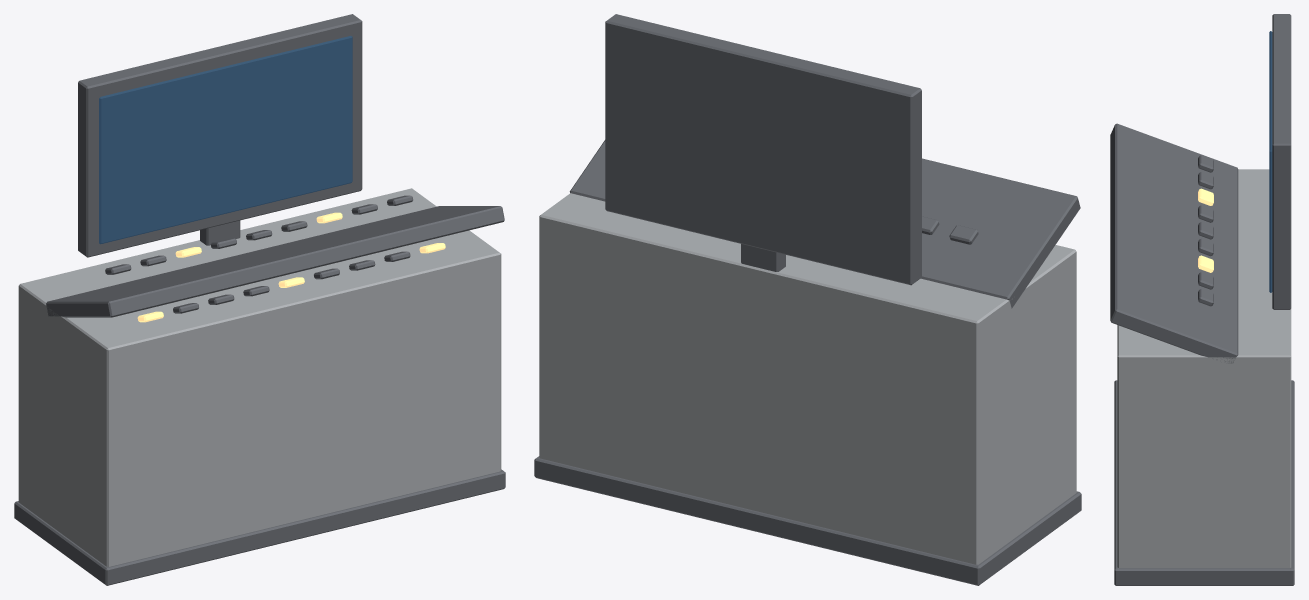
The model's file is console.glb.
The picture shows the model from 3 angles, left to right: view 1: azimuth 30°, elevation 25°; view 2: azimuth 150°, elevation 25°; view 3: azimuth 270°, elevation 25°; orthographic projection. The views are drawn at different scales.
Parts seen in each view (by area): view 1: console; view 2: console; view 3: console.
Part boxes in pixels (box(x1,y1,x2,y2)): console: box(14, 14, 505, 585); console: box(534, 14, 1081, 585); console: box(1110, 14, 1294, 585).
Bounding box in the file's own units: 1.42 × 1.44 × 0.5822.
